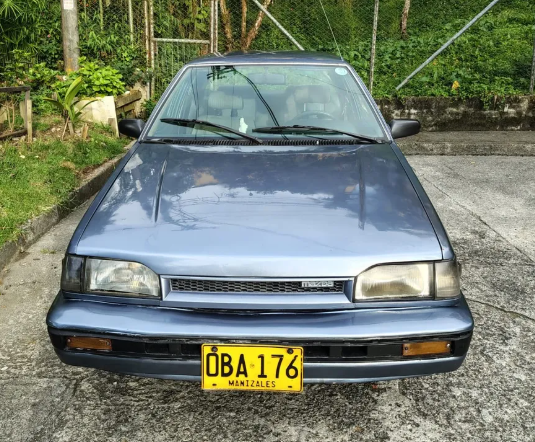placa: (201, 341, 304, 394)
